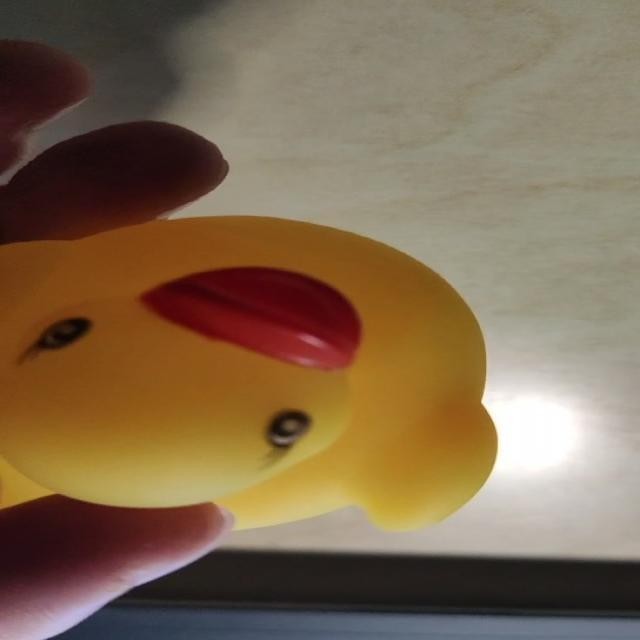rubber-duck: (0, 216, 495, 526)
